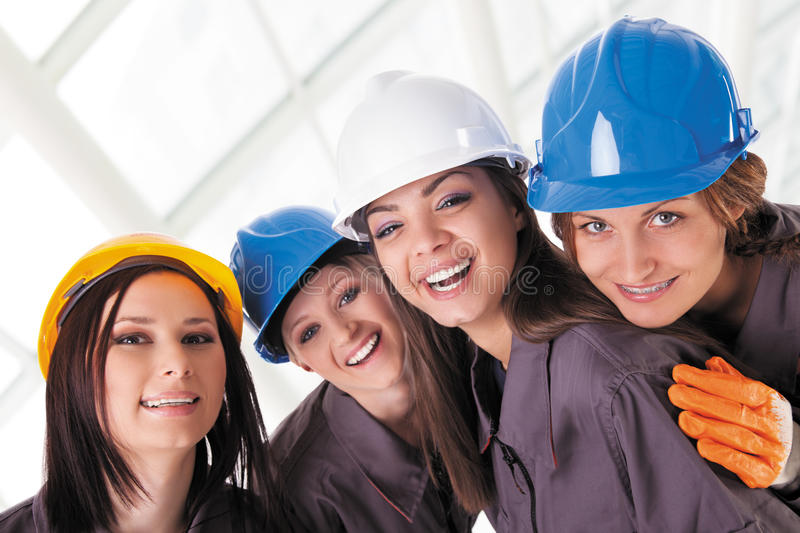casco: (526, 13, 761, 214), (329, 69, 531, 241), (36, 231, 244, 385), (228, 203, 361, 364)
